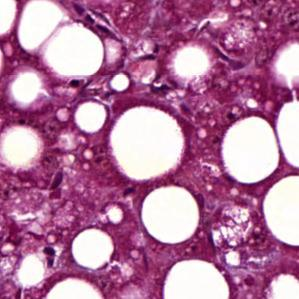steatosis: (222, 114, 278, 184), (142, 184, 200, 245), (164, 258, 230, 299), (264, 174, 299, 249)
